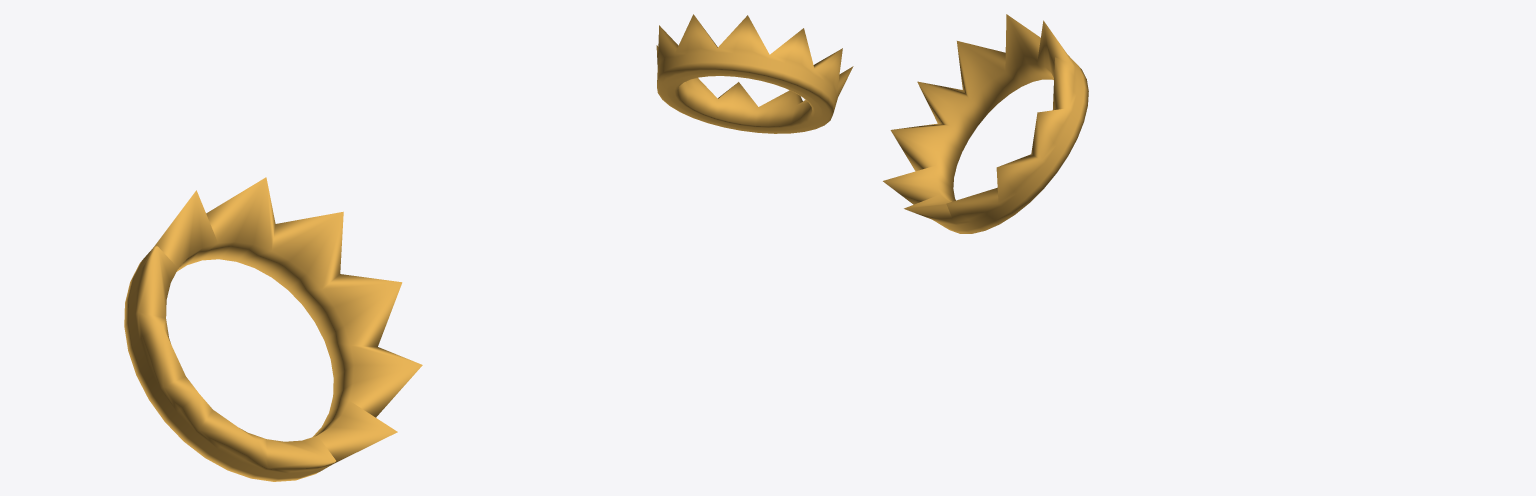
Rendered from crown.glb.
The picture shows the model from 3 angles, left to right: view 1: azimuth 30°, elevation 25°; view 2: azimuth 150°, elevation 25°; view 3: azimuth 270°, elevation 25°; orthographic projection. The views are drawn at different scales.
Visible parts, largest first — view 1: Cylinder.002; view 2: Cylinder.002; view 3: Cylinder.002.
Part boxes in pixels (left/top/right/bottom): Cylinder.002: left=124, top=177, right=422, bottom=481; Cylinder.002: left=656, top=14, right=853, bottom=133; Cylinder.002: left=883, top=14, right=1088, bottom=233.
Size of the model in its own units: 4.1 by 8.02 by 11.35.
